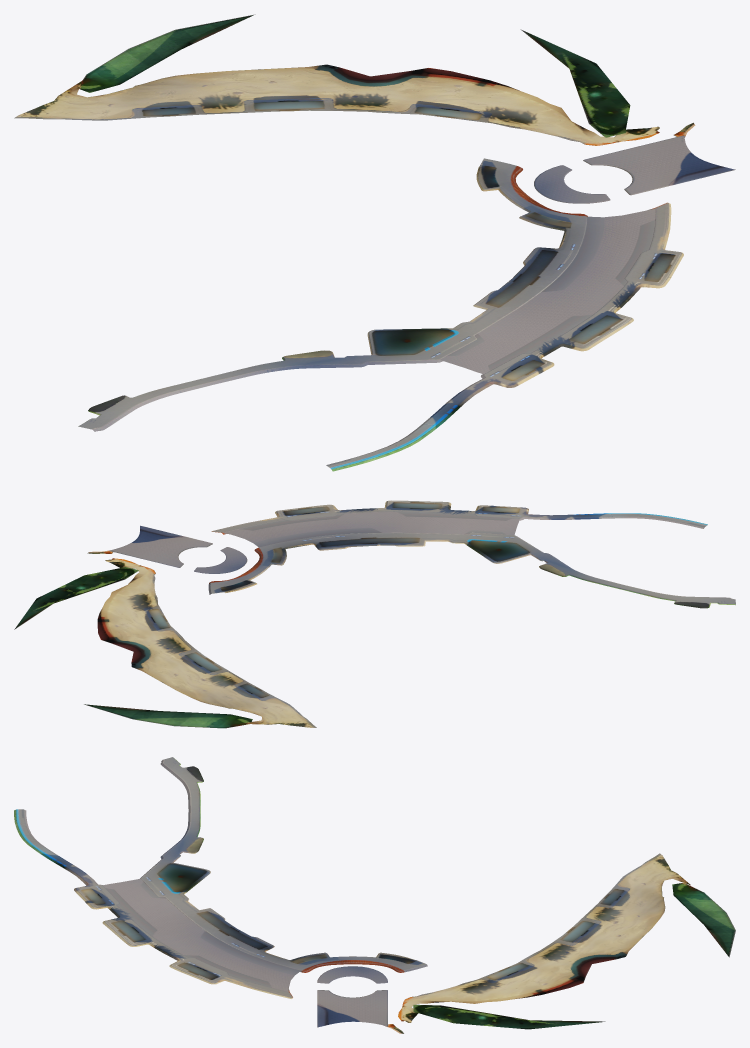
The model's file is pref_sm_beach_tech_hunt_bk_beta_Terrains_Part_04_lv2.fbx.
The picture shows the model from 3 angles, top to bottom: view 1: azimuth 30°, elevation 25°; view 2: azimuth 150°, elevation 25°; view 3: azimuth 270°, elevation 25°; orthographic projection. The views are drawn at different scales.
Parts seen in each view (by area): view 1: sm_beach_tech_hunt_bk_beta_Terrains_Part_04a_lv2, sm_beach_tech_hunt_bk_beta_Terrains_Part_04b_lv2, sm_beach_tech_hunt_bk_beta_Terrains_Part_04c_lv2; view 2: sm_beach_tech_hunt_bk_beta_Terrains_Part_04a_lv2, sm_beach_tech_hunt_bk_beta_Terrains_Part_04b_lv2, sm_beach_tech_hunt_bk_beta_Terrains_Part_04c_lv2; view 3: sm_beach_tech_hunt_bk_beta_Terrains_Part_04a_lv2, sm_beach_tech_hunt_bk_beta_Terrains_Part_04b_lv2, sm_beach_tech_hunt_bk_beta_Terrains_Part_04c_lv2.
Boxes of the visible parts, bbox=[...] form: sm_beach_tech_hunt_bk_beta_Terrains_Part_04a_lv2: bbox=[78, 122, 735, 471]; sm_beach_tech_hunt_bk_beta_Terrains_Part_04b_lv2: bbox=[14, 64, 659, 145]; sm_beach_tech_hunt_bk_beta_Terrains_Part_04c_lv2: bbox=[79, 14, 630, 137]; sm_beach_tech_hunt_bk_beta_Terrains_Part_04a_lv2: bbox=[87, 500, 735, 608]; sm_beach_tech_hunt_bk_beta_Terrains_Part_04b_lv2: bbox=[97, 558, 316, 727]; sm_beach_tech_hunt_bk_beta_Terrains_Part_04c_lv2: bbox=[14, 567, 252, 728]; sm_beach_tech_hunt_bk_beta_Terrains_Part_04a_lv2: bbox=[14, 757, 427, 1033]; sm_beach_tech_hunt_bk_beta_Terrains_Part_04b_lv2: bbox=[398, 853, 690, 1022]; sm_beach_tech_hunt_bk_beta_Terrains_Part_04c_lv2: bbox=[413, 883, 735, 1029].
Bounding box in the file's own units: 87.59 × 0.4447 × 96.6.
